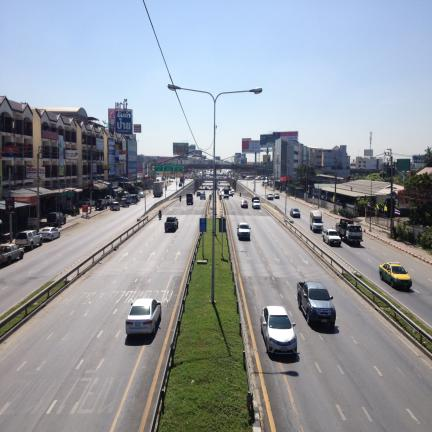car: (261, 306, 297, 354), (126, 298, 161, 335), (237, 223, 250, 240), (290, 208, 300, 218)
motorbike: (158, 212, 162, 220)
pickup: (297, 281, 336, 328), (0, 244, 24, 265), (322, 229, 341, 246), (164, 216, 178, 232)
taxi: (379, 262, 412, 290)
truck: (335, 218, 362, 245), (310, 210, 323, 232)
